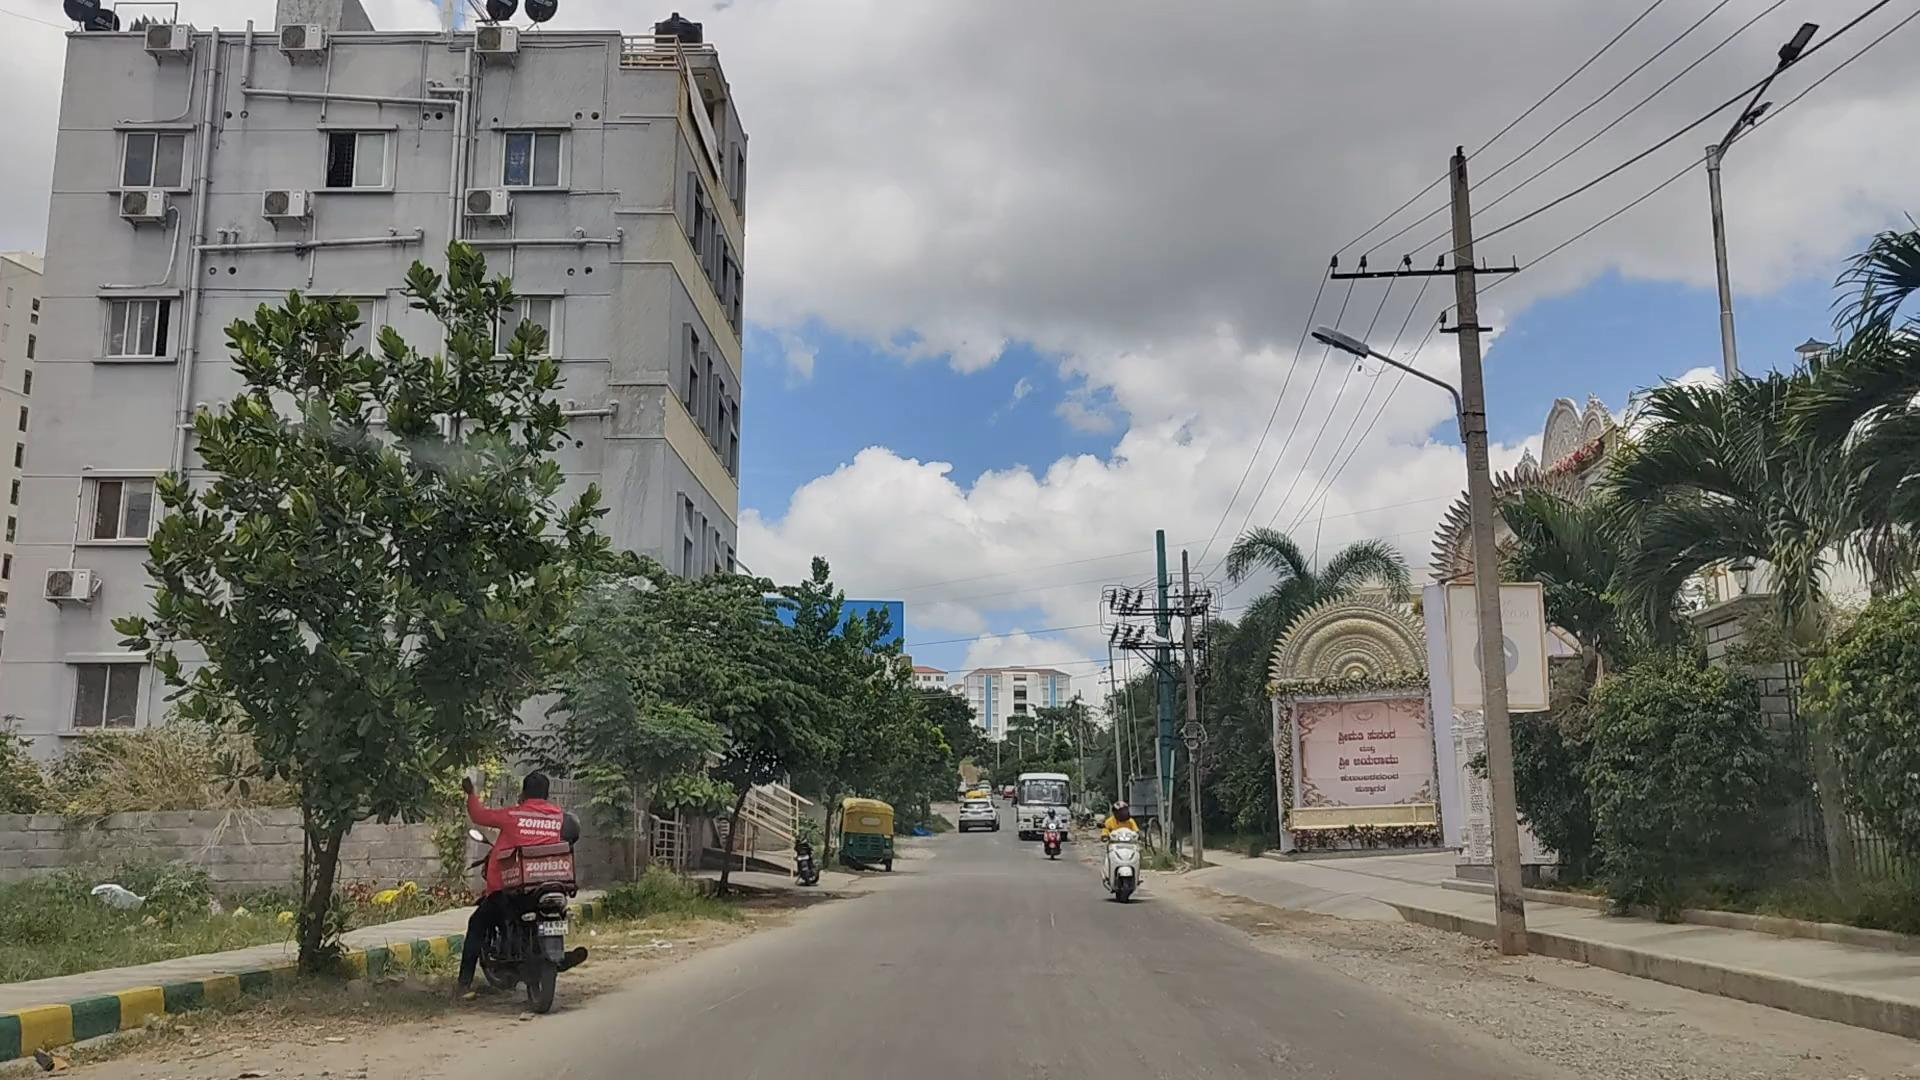LMV: (452, 728, 608, 1029)
RoadDamages: (1257, 956, 1586, 1080)
